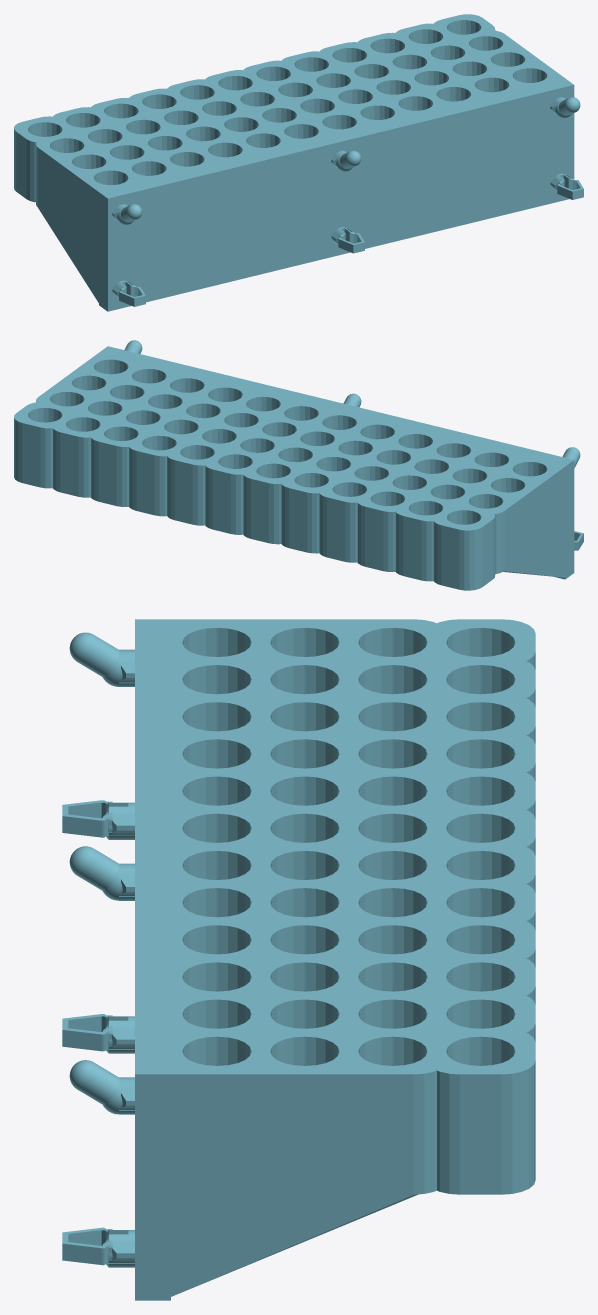
Rendered from part-p09-48__current-mounts-flat-top-v2__fit-pf02c9-hoop5__installed.glb.
The picture shows the model from 3 angles, top to bottom: view 1: azimuth 30°, elevation 25°; view 2: azimuth 150°, elevation 25°; view 3: azimuth 270°, elevation 25°; orthographic projection. The views are drawn at different scales.
Visible parts, largest first — view 1: installed.stl; view 2: installed.stl; view 3: installed.stl.
Boxes of the visible parts, <box> form: installed.stl: <box>14,14,583,311</box>; installed.stl: <box>14,340,583,590</box>; installed.stl: <box>62,619,535,1300</box>.
Size of the model in its own units: 0.1622 by 0.0376 by 0.0713.
